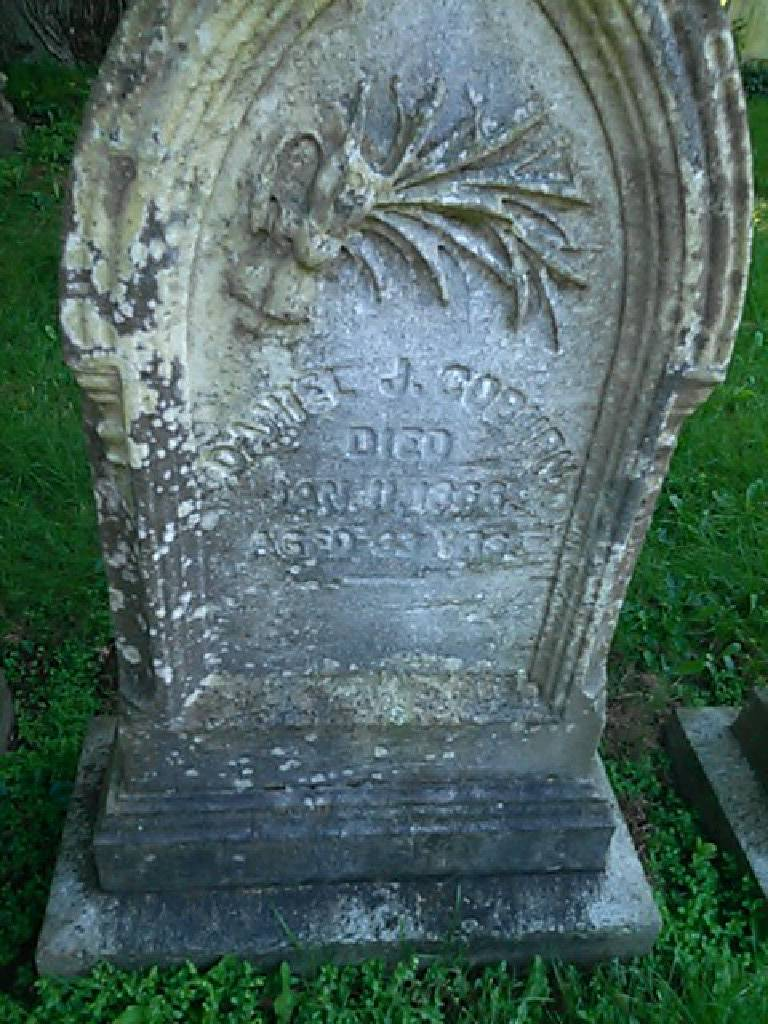upright: (20, 4, 754, 1011)
